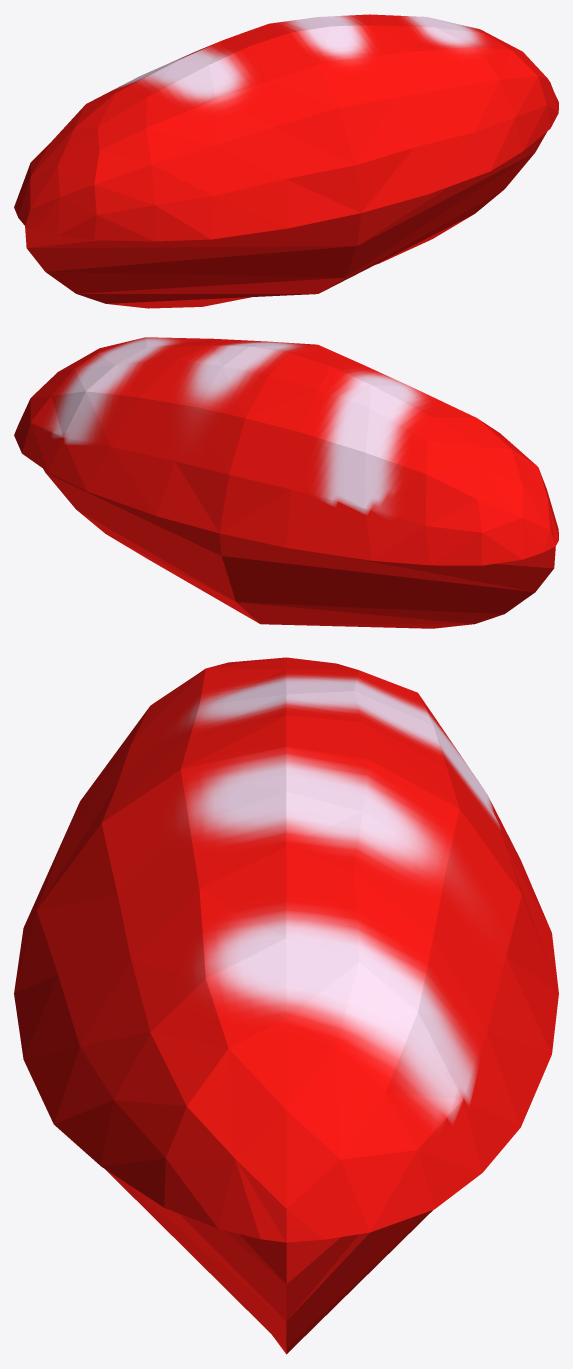
Rendered from missile.glb.
3 views of the same model, one above another, from view 1: azimuth 30°, elevation 25°; view 2: azimuth 150°, elevation 25°; view 3: azimuth 270°, elevation 25° (orthographic). The views are drawn at different scales.
Parts seen in each view (by area): view 1: Cube; view 2: Cube; view 3: Cube.
Boxes of the visible parts, x1,y1,x2,y2 form: Cube: (14, 14, 558, 308); Cube: (14, 337, 558, 628); Cube: (14, 657, 558, 1354).
Size of the model in its own units: 62.13 by 28.75 by 28.75.
1 material, 1 textured.
